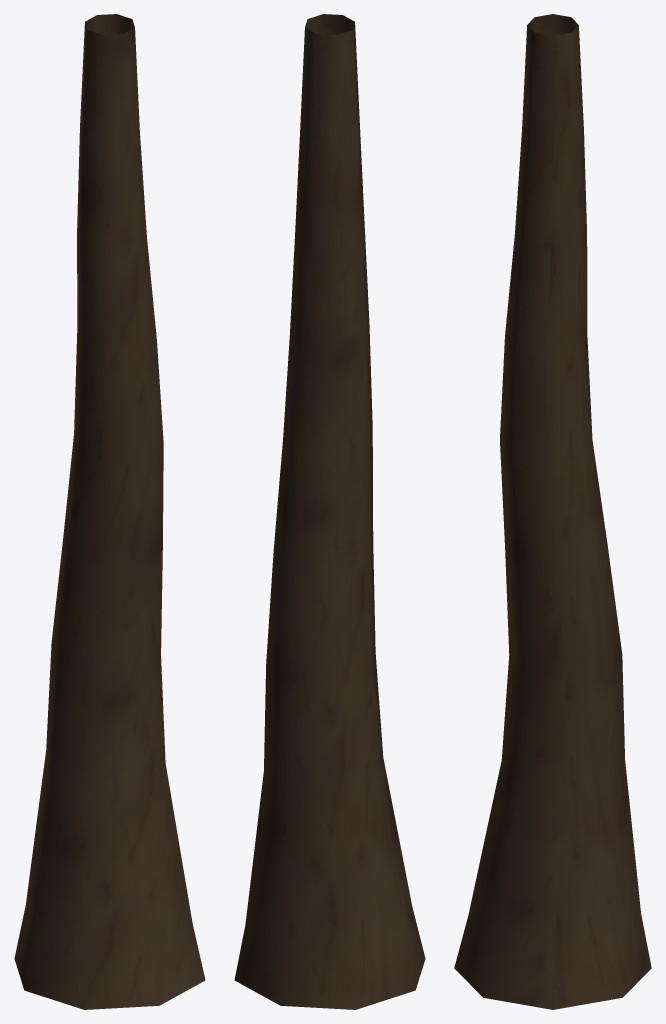
File: Tree.fbx
3 renders of one model, left to right at view 1: azimuth 30°, elevation 25°; view 2: azimuth 150°, elevation 25°; view 3: azimuth 270°, elevation 25°, orthographic.
Visible parts, largest first — view 1: Circle; view 2: Circle; view 3: Circle.
Part boxes in pixels (x1,y1,x2,y2): Circle: (14,14,205,1009); Circle: (234,14,425,1009); Circle: (454,14,651,1009).
Bounding box in the file's own units: 2729 × 14382 × 2729.
1 material, 1 textured.
